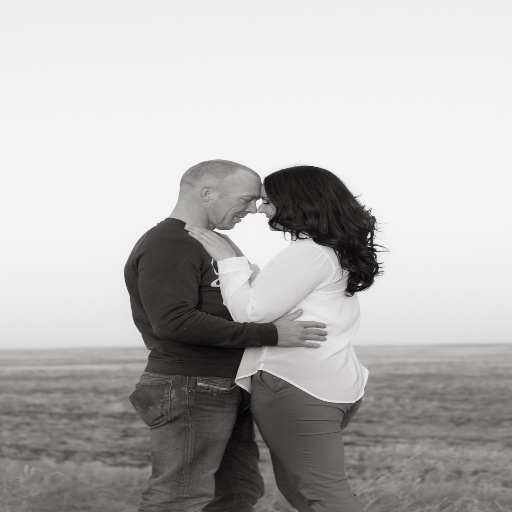hand: (271, 319, 338, 356), (184, 224, 237, 262), (214, 231, 246, 256)
